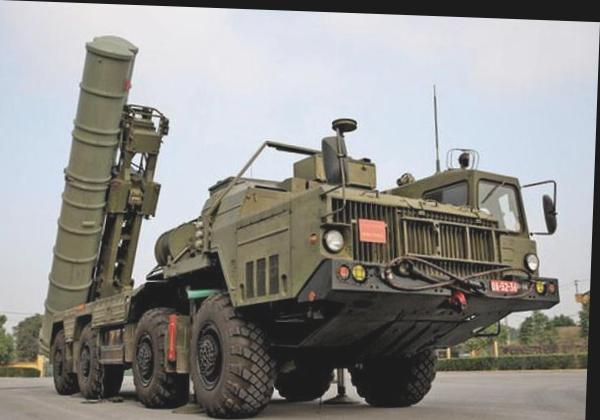License_Plate: (488, 275, 521, 296)
